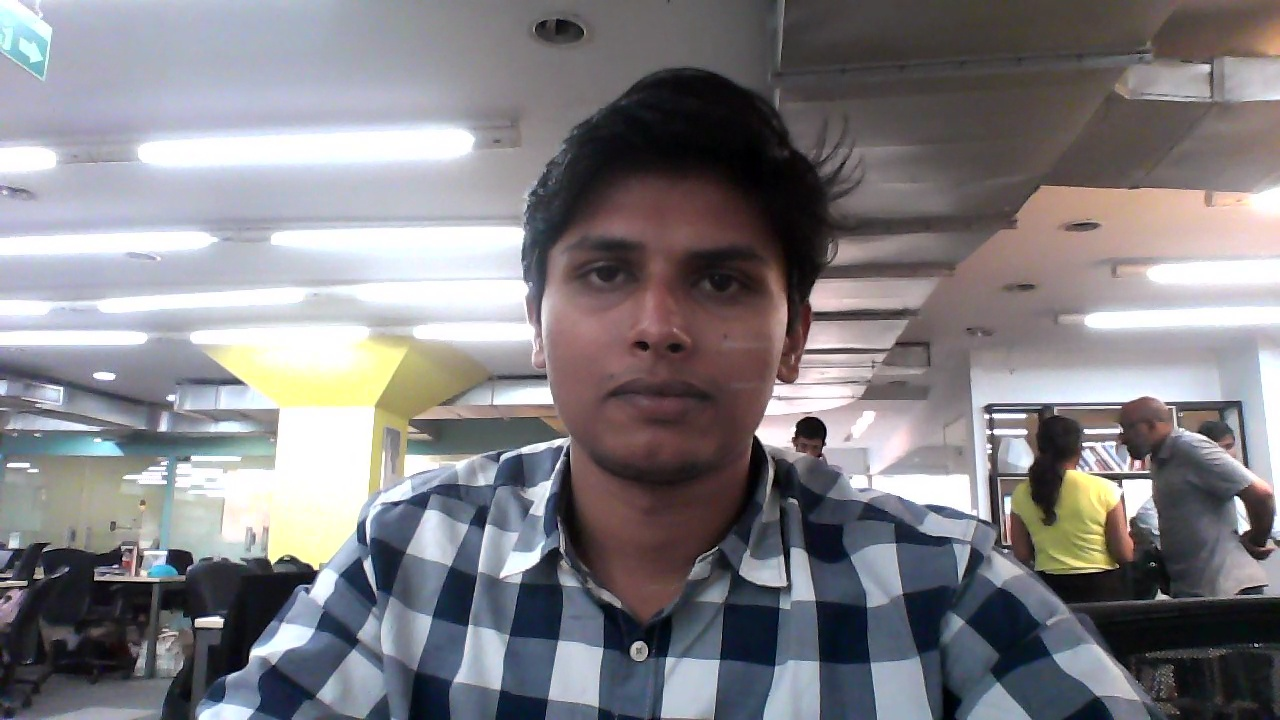open: (506, 58, 818, 498)
